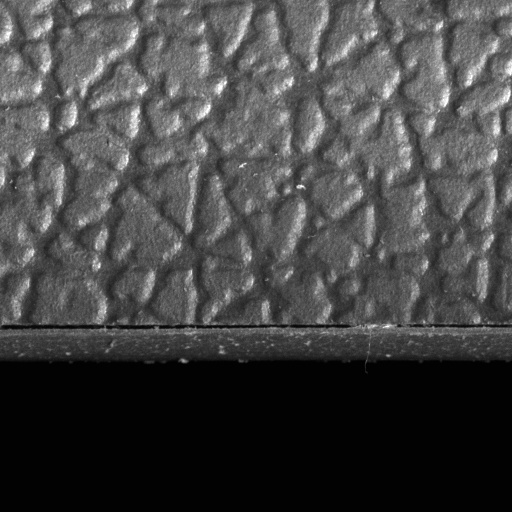jiaofeng: (0, 317, 359, 337), (396, 318, 511, 336)
